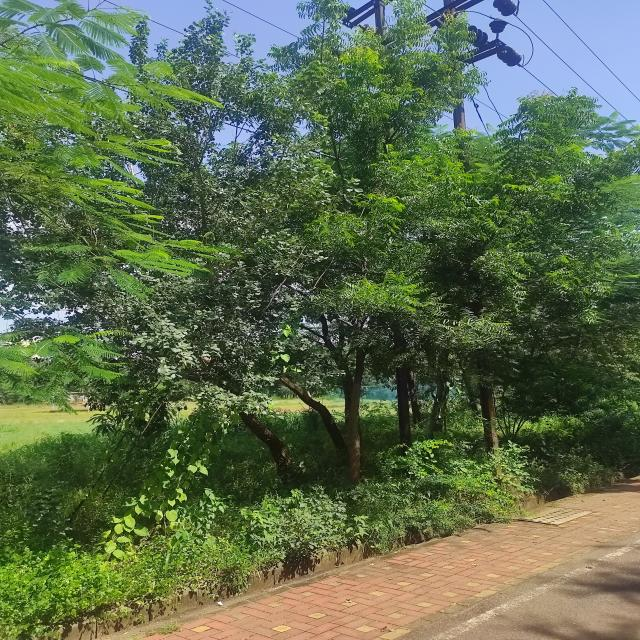Devakanchan tree: (44, 92, 273, 422)
Neem Tree: (290, 107, 578, 409)
